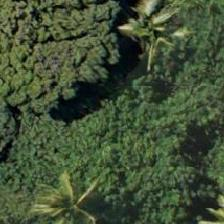coconut_tree: (100, 0, 190, 70), (19, 164, 109, 223)
